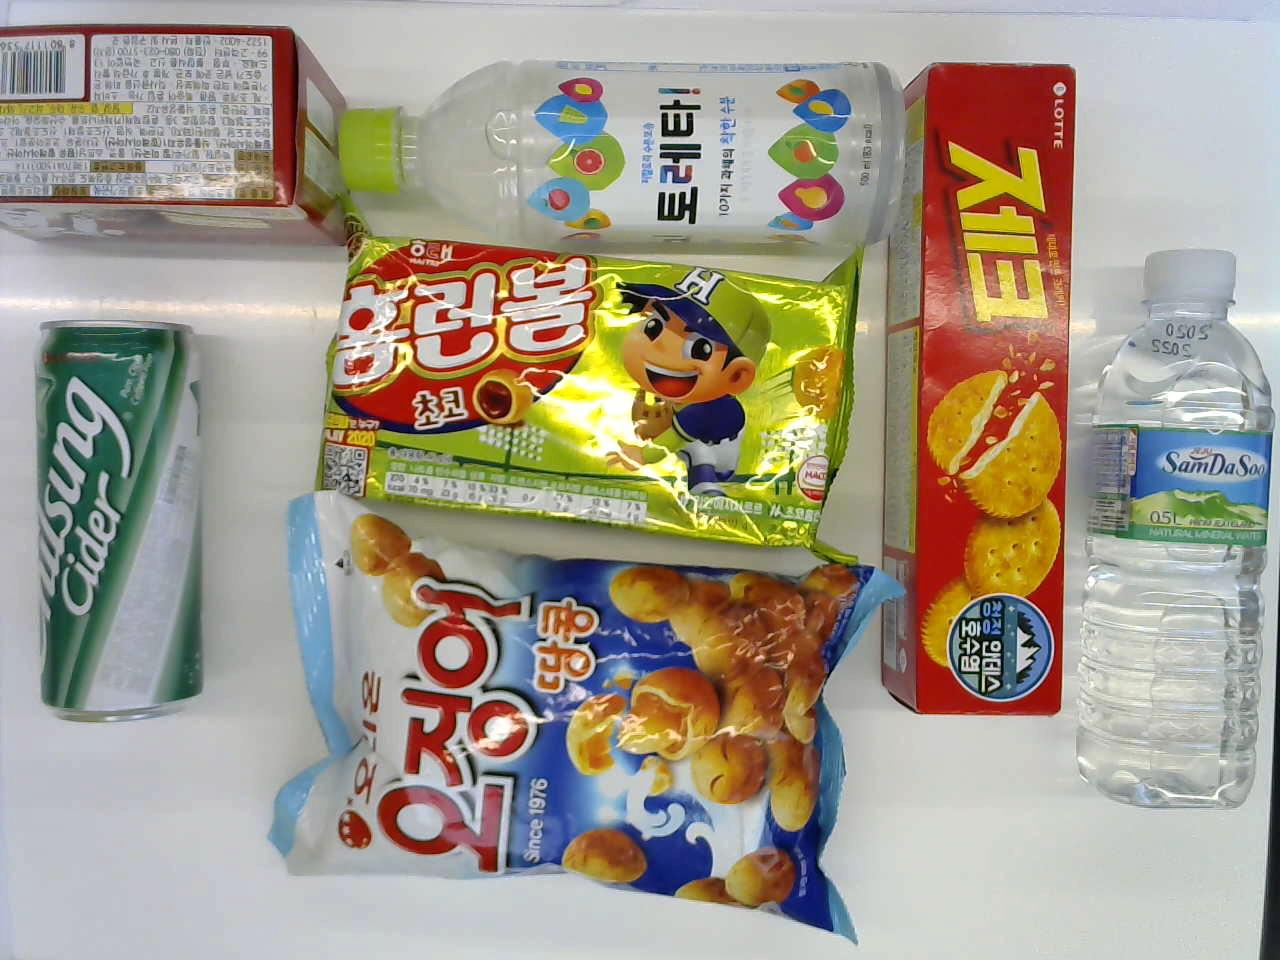chocopie: (0, 18, 363, 267)
cidar: (28, 307, 224, 721)
homerunball: (324, 233, 834, 562)
samdasu: (1081, 250, 1266, 821)
squid_peanut: (280, 528, 871, 871)
toreta: (333, 39, 899, 263)
zec: (879, 56, 1094, 728)
